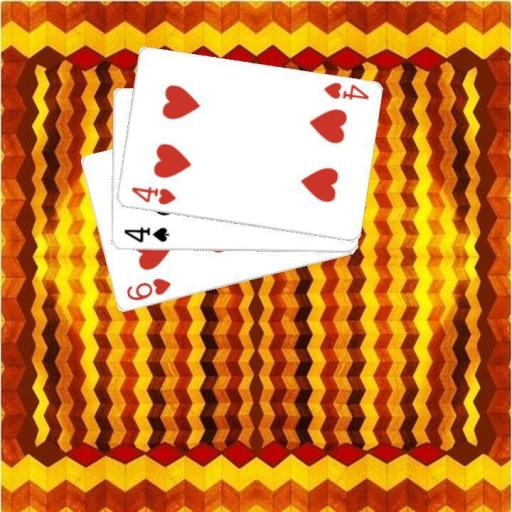card-corner: (123, 275, 172, 303), (128, 183, 177, 207), (320, 79, 370, 102), (120, 224, 170, 245)
